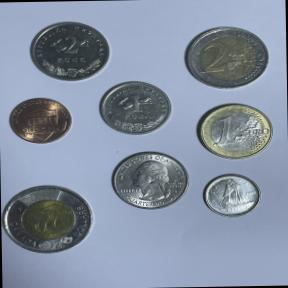1 Euro: (192, 99, 278, 163)
2 Euro: (178, 22, 274, 94)
Canda-10cent-: (197, 171, 266, 222)
Canda-2Dollar-: (1, 179, 98, 258)
Croatia-2Kune-: (25, 18, 114, 86)
US-1cent-: (2, 94, 78, 148)
US-25cent-: (105, 147, 194, 212)
